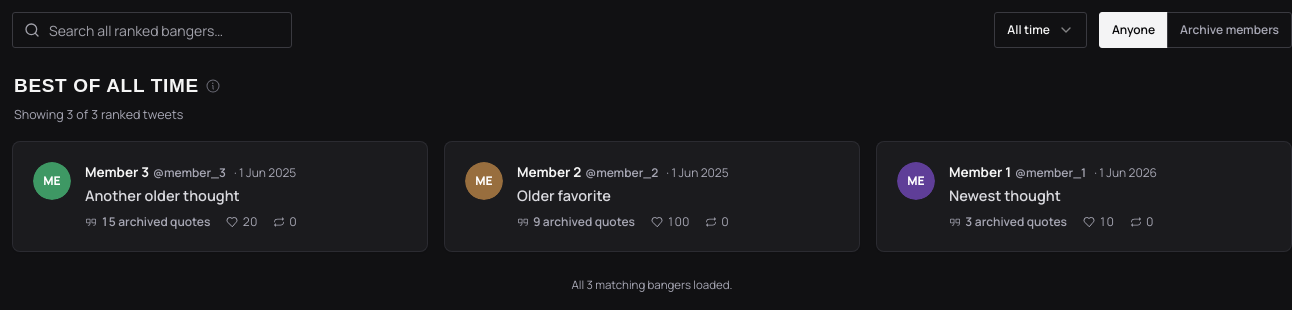
BangersExplorer › shows a pending state while navigating to another time range
This screenshot has width=1292, height=310.
Click the dropdown named "Filter by time".
click(1041, 30)  # box [994, 12, 1087, 48]
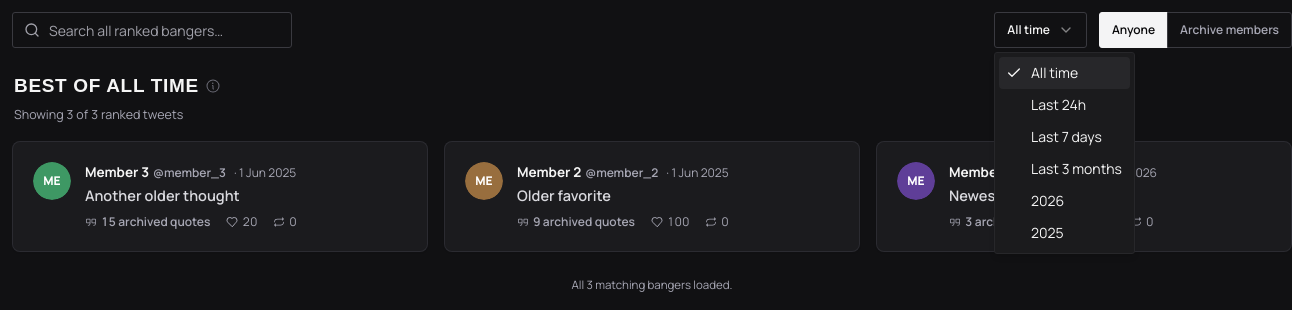
Click the option "Last 7 days".
click(1066, 136)  # box [1031, 127, 1102, 146]
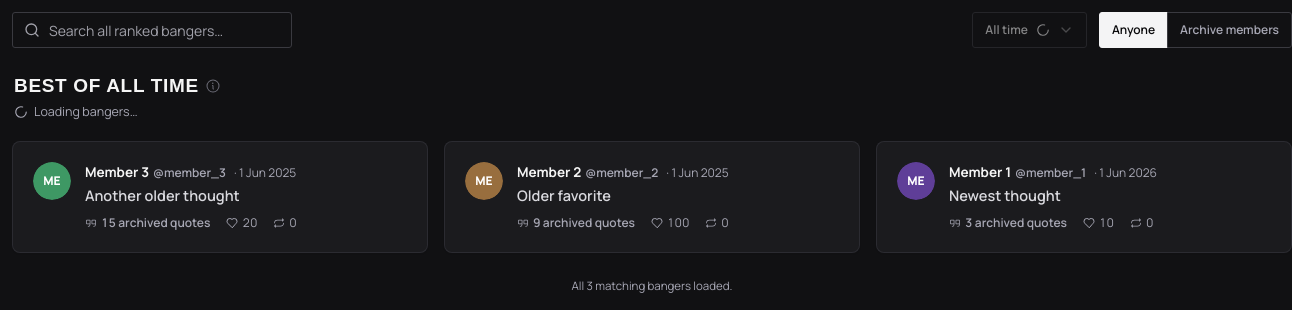
Result: the text "Loading bangers…" is shown at [14, 102, 138, 121]
Result: the dropdown named "Filter by time" is disabled at [972, 12, 1087, 48]
